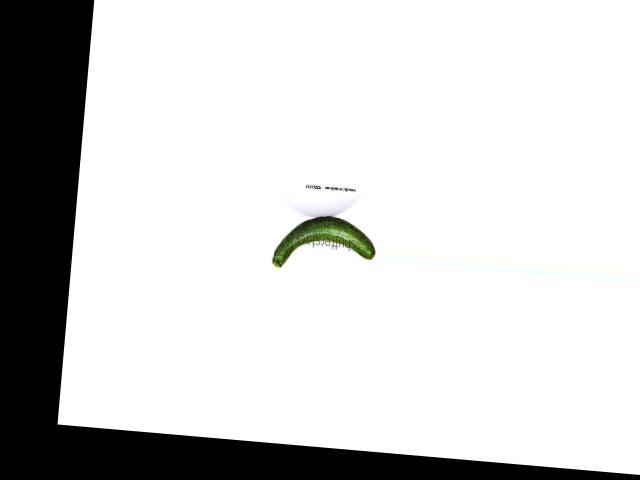cucumber: (271, 212, 377, 275)
